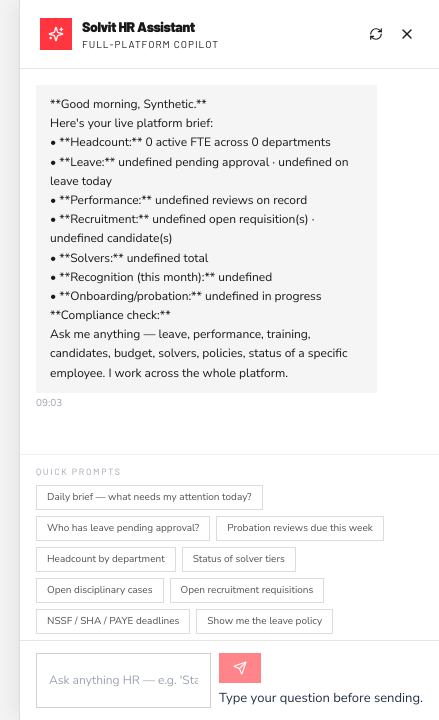
Scenario: AI greeting initializes once; manual refresh uses the latest user name
Click the button with test id "ai-refresh". click: [376, 34]
box: [365,22,387,46]
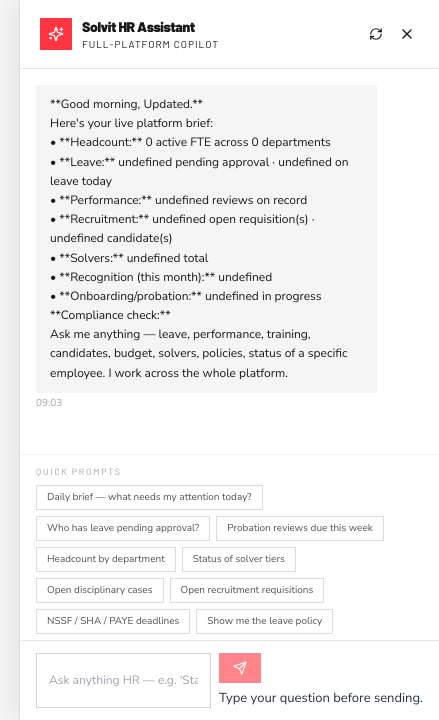
Expected: the text "Updated" is shown, [50,96,352,381]
